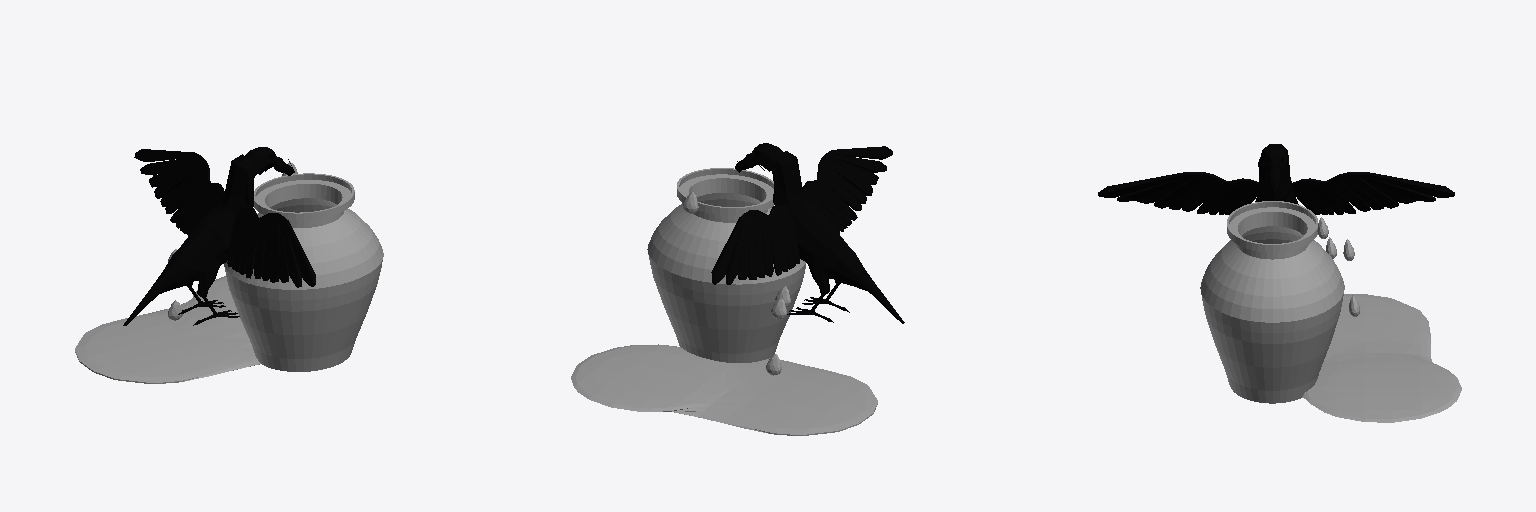
Rendered from bheegahuakaua.obj.
3 views of the same model, side by side, from view 1: azimuth 30°, elevation 25°; view 2: azimuth 150°, elevation 25°; view 3: azimuth 270°, elevation 25° (orthographic).
Visible parts, largest first — view 1: Circle, Cylinder, Mball; view 2: Mball, Circle, Cylinder; view 3: Circle, Mball, Cylinder.
Part boxes in pixels (x1,y1,x2,y2): Circle: (224,173,383,371); Cylinder: (123,147,315,325); Mball: (75,276,260,383); Mball: (571,344,877,435); Circle: (647,168,805,362); Cylinder: (711,143,904,323); Circle: (1200,201,1344,403); Mball: (1302,294,1461,422); Cylinder: (1098,144,1454,214).
Size of the model in its own units: 2.24 by 1.73 by 2.62.